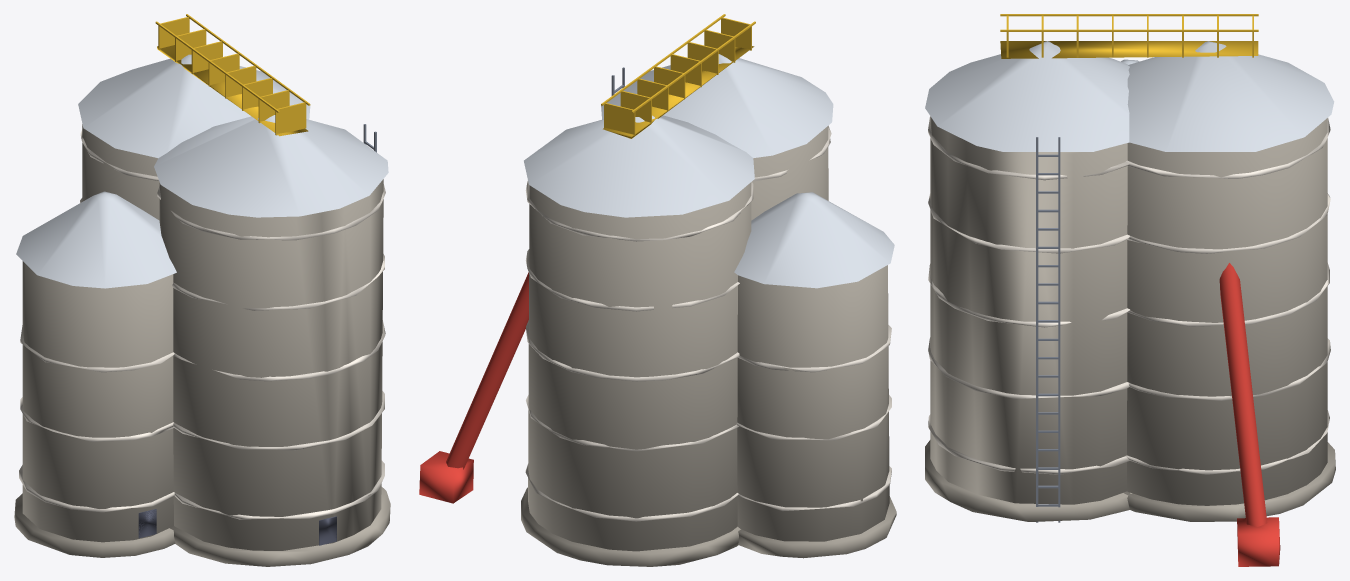
The model's file is grain_silo.glb.
3 renders of one model, left to right at view 1: azimuth 30°, elevation 25°; view 2: azimuth 150°, elevation 25°; view 3: azimuth 270°, elevation 25°, orthographic. The views are drawn at different scales.
Visible parts, largest first — view 1: grain_silo; view 2: grain_silo; view 3: grain_silo.
Boxes of the visible parts, box(x1,y1,x2,y2) form: grain_silo: box(14, 14, 390, 566); grain_silo: box(419, 14, 896, 566); grain_silo: box(925, 14, 1335, 566).
Size of the model in its own units: 12.98 by 13.42 by 11.13.
1 material, 1 textured.
